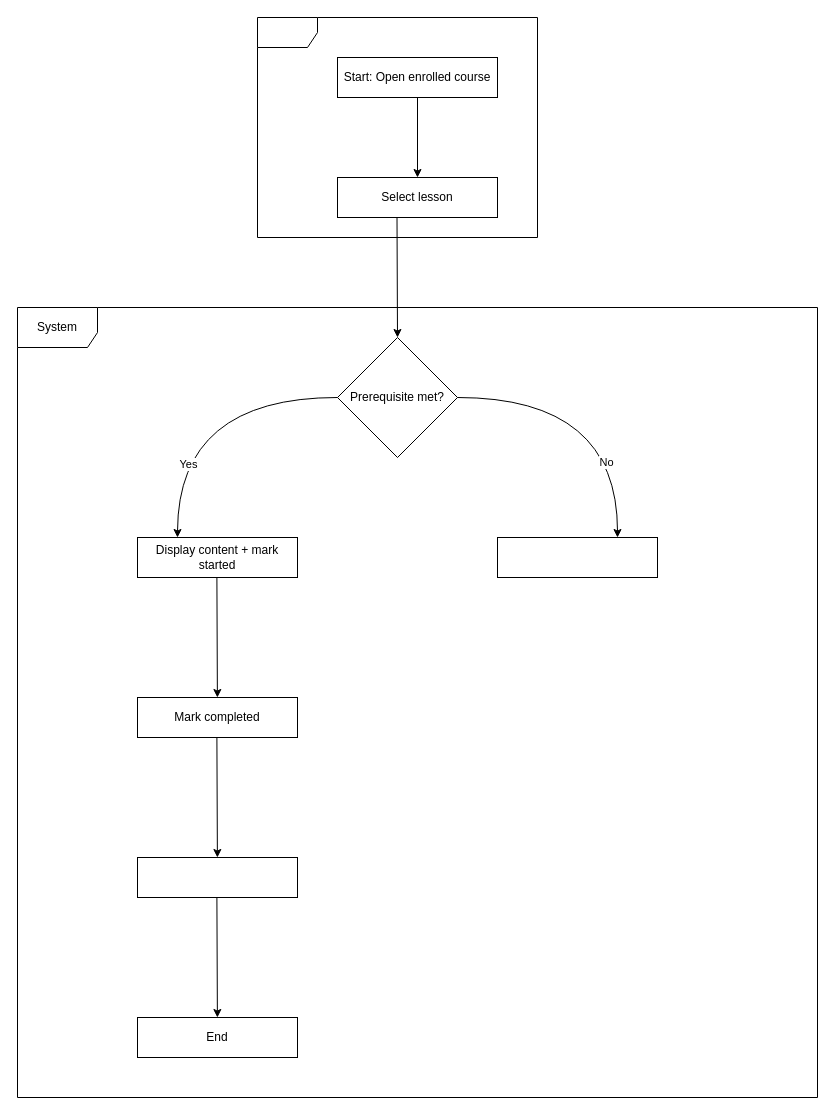
This 835x1115 diagram has some shape labels left out. Each missing label, with the centre of its shape:
"Show locked" belongs at point (577, 557).
"Student" belongs at point (397, 127).
"Update progress" belongs at point (217, 877).
